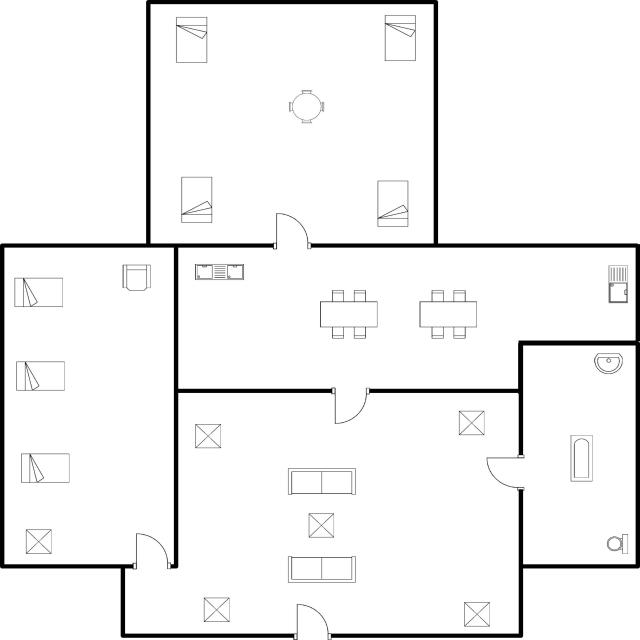armchair: (118, 260, 155, 296)
bed: (11, 356, 69, 397), (176, 172, 218, 226), (172, 12, 212, 68), (379, 10, 419, 65), (10, 273, 67, 311), (372, 176, 412, 230), (16, 451, 74, 486)
coffee_table: (190, 420, 226, 454), (198, 593, 235, 625), (454, 407, 488, 441), (21, 526, 58, 557), (458, 599, 496, 628), (306, 509, 338, 540)
dining_table: (412, 286, 482, 342), (313, 286, 382, 341)
large_sink: (600, 530, 634, 557)
large_sofa: (282, 554, 364, 588), (283, 464, 360, 498)
round_table: (284, 87, 329, 129)
sink: (604, 260, 632, 308)
small_sink: (588, 349, 626, 378)
tub: (564, 430, 597, 484)
twin_sink: (191, 259, 249, 285)
